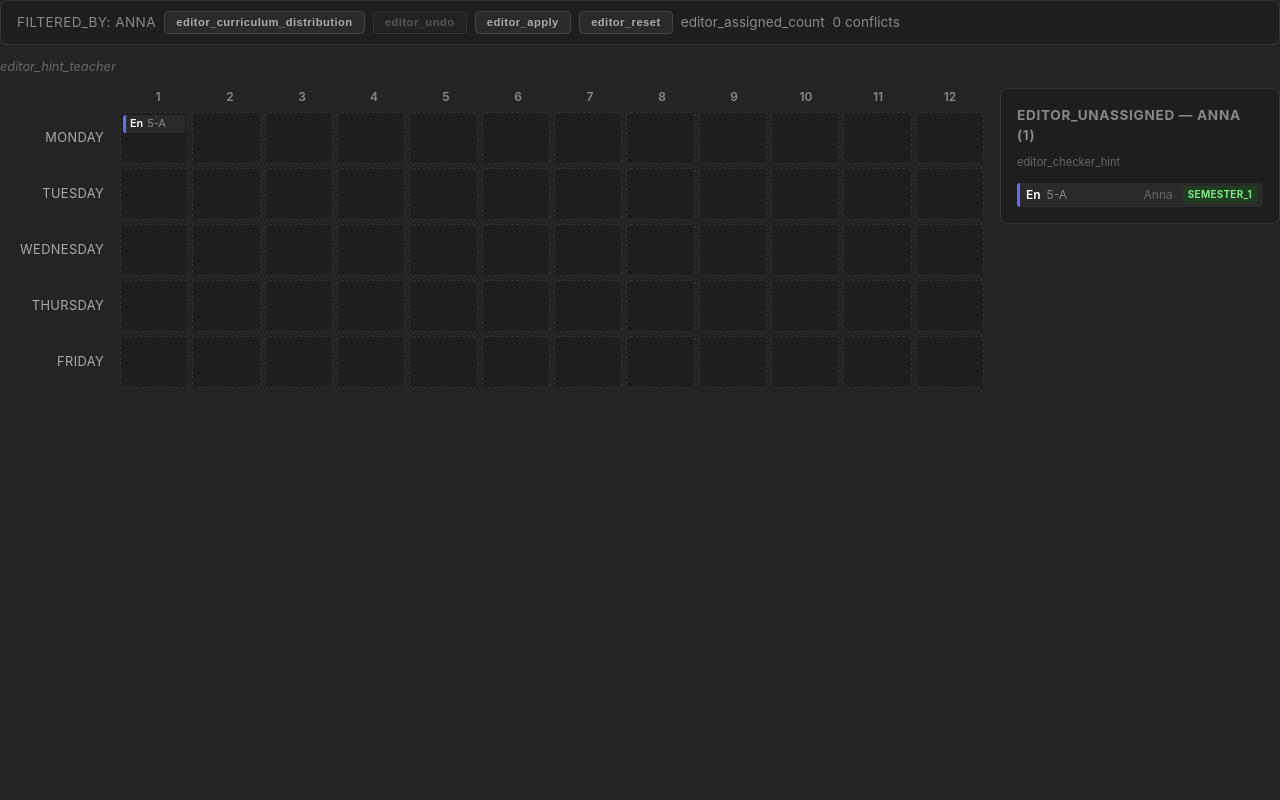
InlineEditor teacher edit mode › lists only the selected teacher rules in the curriculum distribution modal
Step 1. Click the button "editor_curriculum_distribution" → (264, 22), box [164,11,365,34]
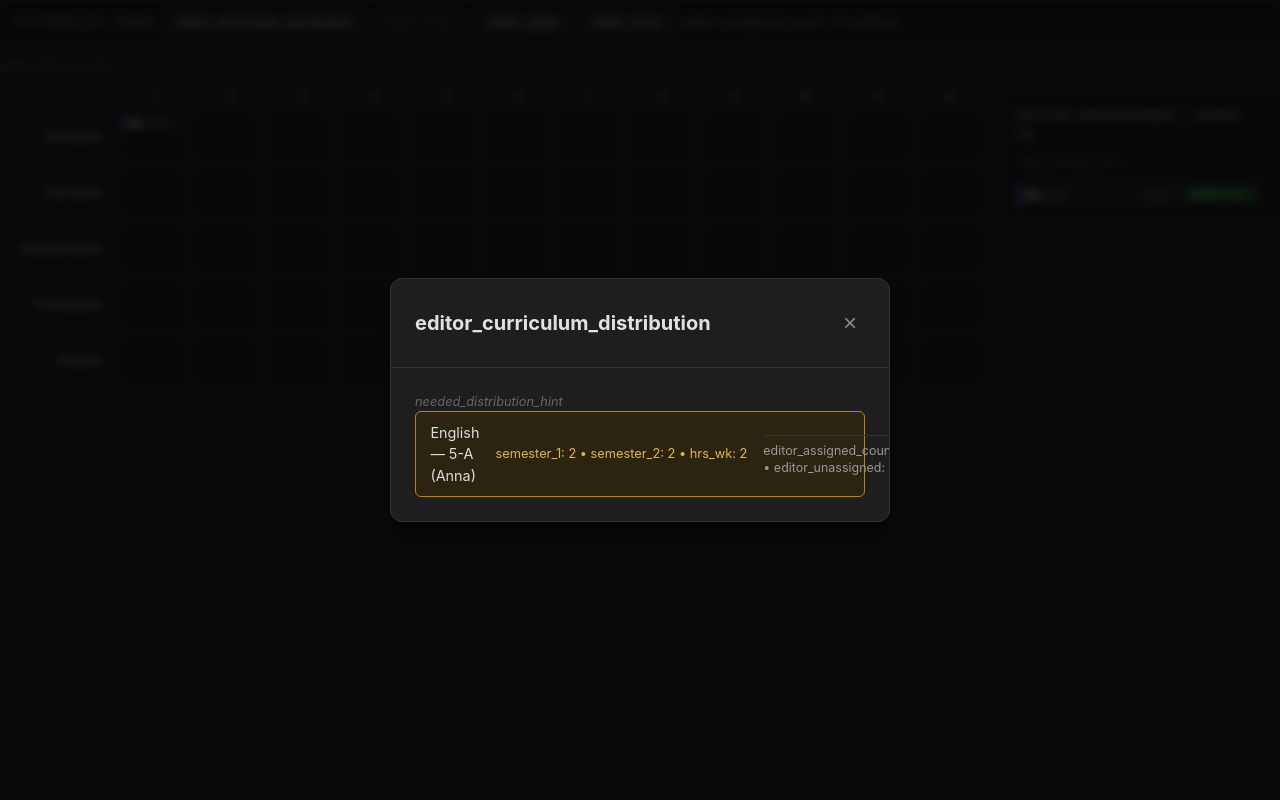
Result: the text with class "detail-meta" shows "2" at [568,446,576,462]
